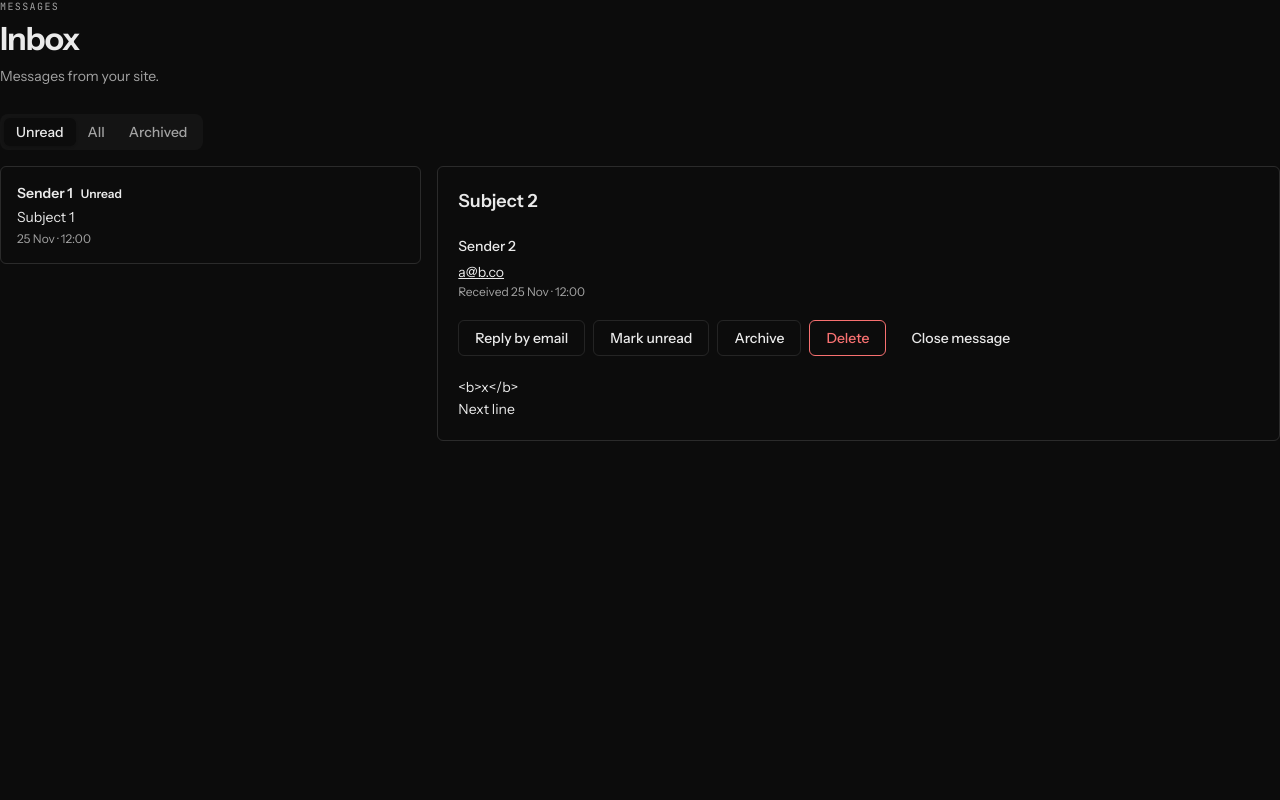
messages inbox › asks before delete and keeps confirmation and selection on failure for retry
Click the button "Delete".
click(848, 338)  # box x1=809 y1=320 x2=886 y2=356
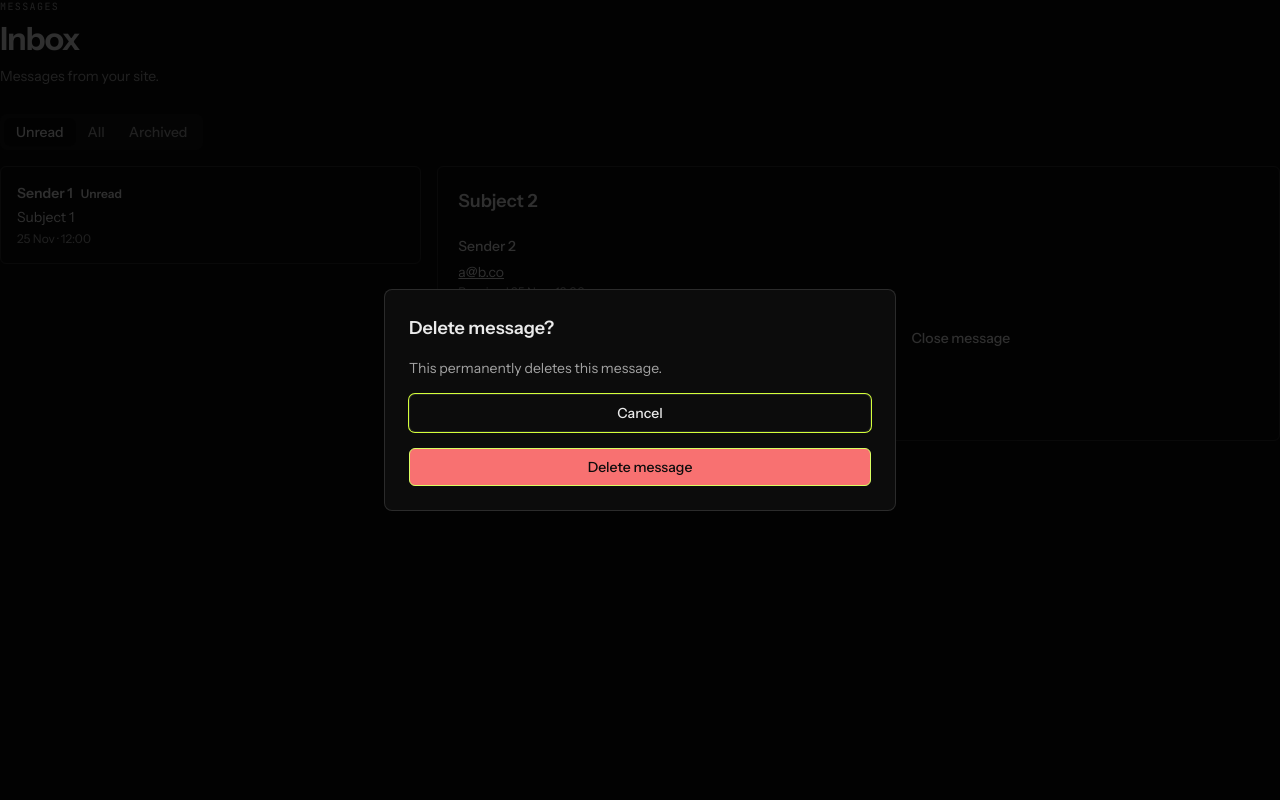
Click the button "Delete message".
click(640, 467)  # box x1=409 y1=448 x2=871 y2=486
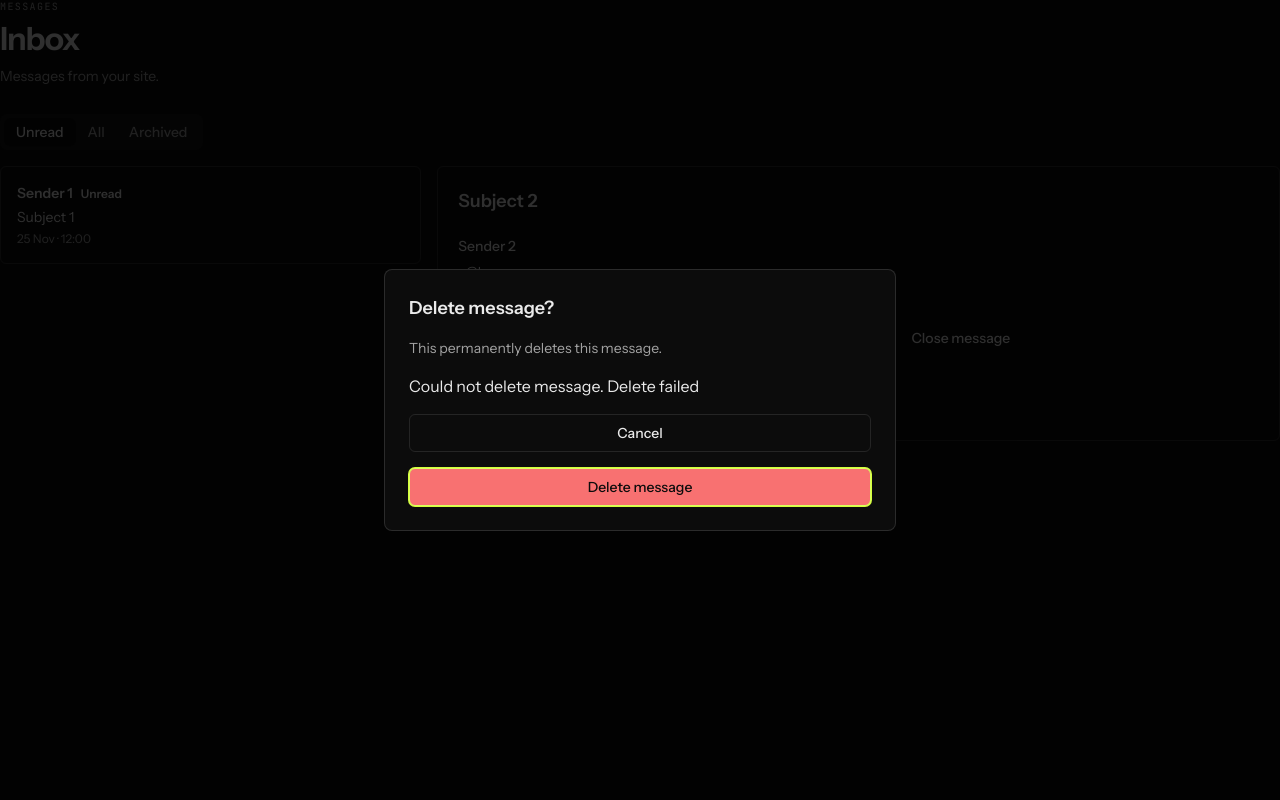
Expected: the message shows "Delete failed", x1=607 y1=376 x2=699 y2=396
Click the button "Delete message".
click(640, 487)  # box x1=409 y1=468 x2=871 y2=506
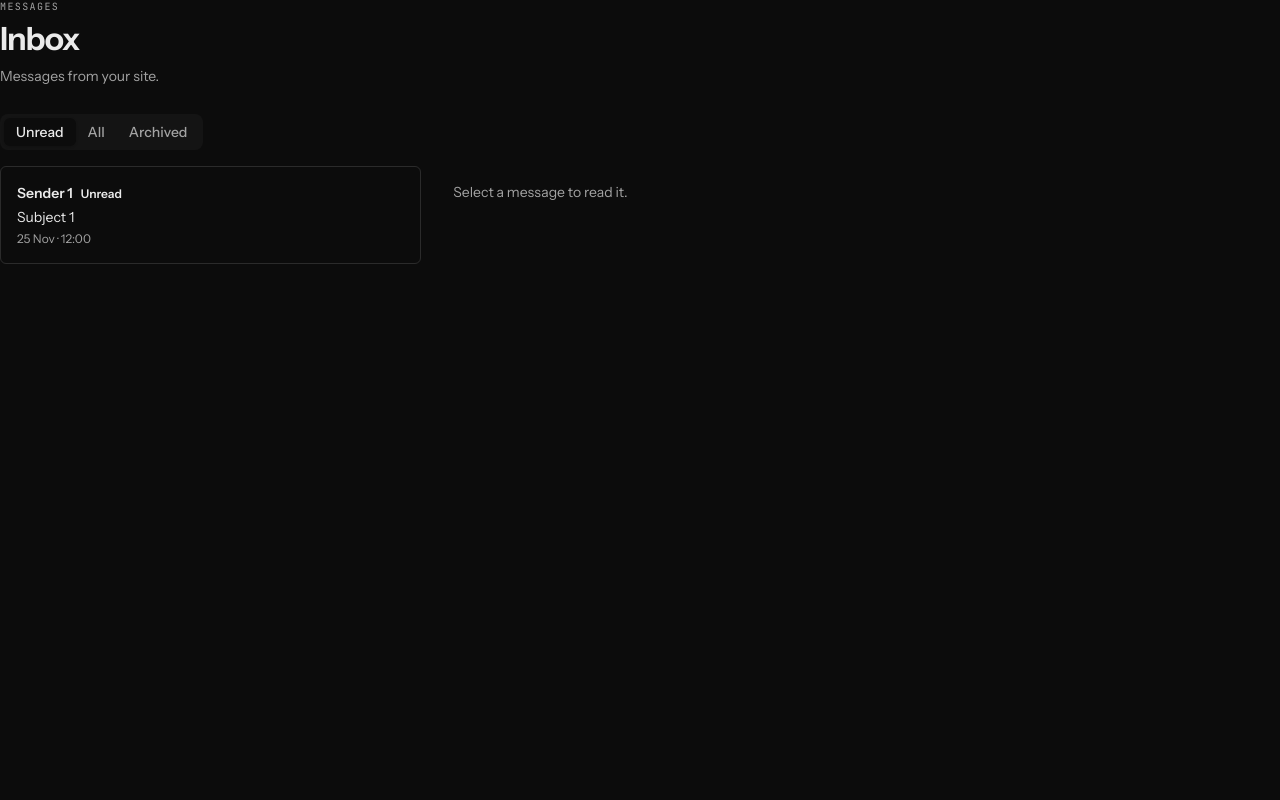
Expected: the dialog is gone
Expected: the link "Reply by email" is gone
